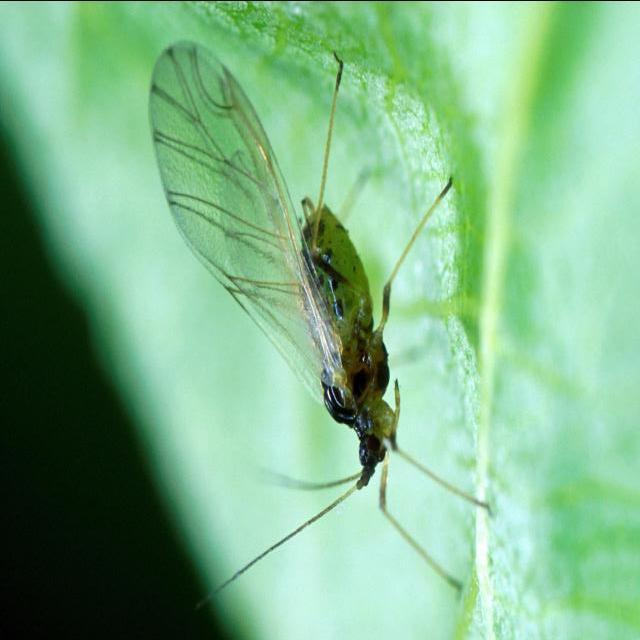aphid: (142, 44, 482, 588)
